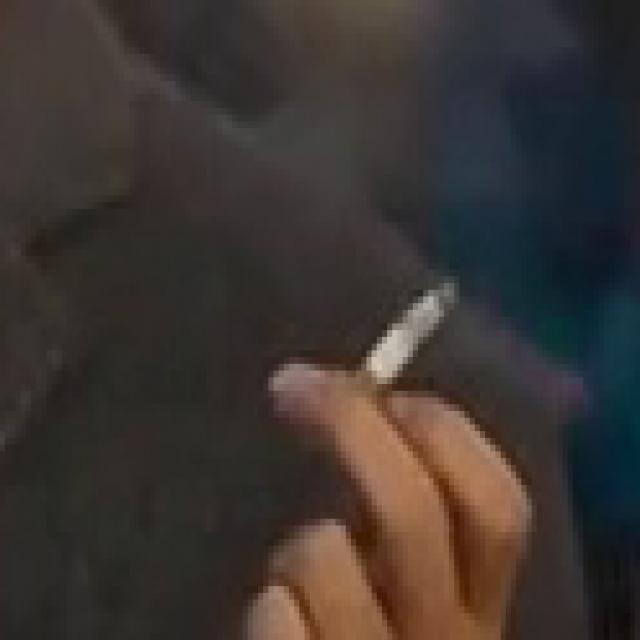smoking: (340, 282, 460, 409)
